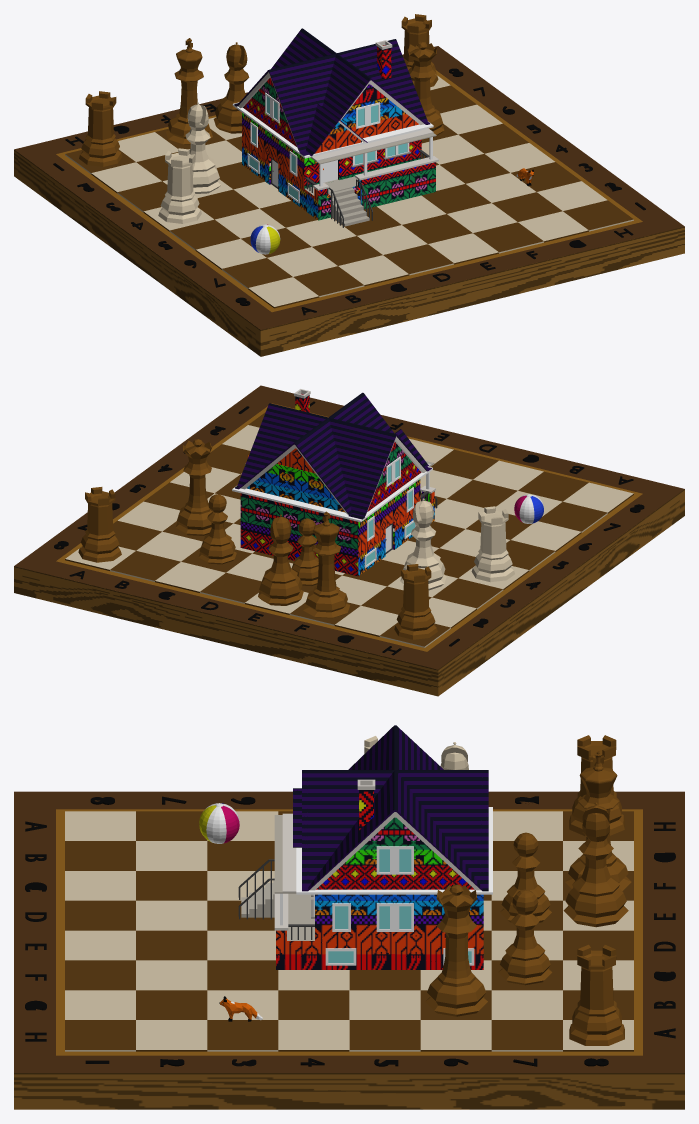
3 renders of one model, top to bottom at view 1: azimuth 30°, elevation 25°; view 2: azimuth 150°, elevation 25°; view 3: azimuth 270°, elevation 25°, orthographic. The views are drawn at different scales.
Parts seen in each view (by area): view 1: Cube.002, Cube.966, OBJRANDOM_BEACHBALL; view 2: Cube.002, Cube.966, OBJRANDOM_BEACHBALL; view 3: Cube.002, Cube.966, OBJRANDOM_BEACHBALL.
Boxes of the visible parts, bbox=[...] form: Cube.002: bbox=[14, 14, 684, 356]; Cube.966: bbox=[232, 28, 438, 227]; OBJRANDOM_BEACHBALL: bbox=[250, 224, 280, 254]; Cube.002: bbox=[14, 385, 684, 696]; Cube.966: bbox=[232, 389, 437, 576]; OBJRANDOM_BEACHBALL: bbox=[514, 494, 543, 523]; Cube.002: bbox=[14, 735, 684, 1109]; Cube.966: bbox=[238, 725, 492, 969]; OBJRANDOM_BEACHBALL: bbox=[199, 803, 239, 843].
Bounding box in the file's own units: 3981 × 1585 × 4012.
30 materials, 6 textured.
